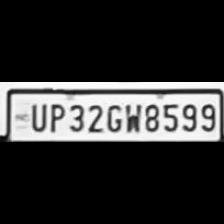2: (85, 101, 103, 133)
3: (66, 102, 84, 132)
5: (160, 100, 178, 132)
8: (141, 102, 159, 132)
9: (179, 100, 197, 132), (198, 100, 216, 132)
G: (104, 101, 122, 133)
P: (46, 100, 66, 132)
U: (27, 99, 46, 130)
W: (122, 101, 142, 133)
